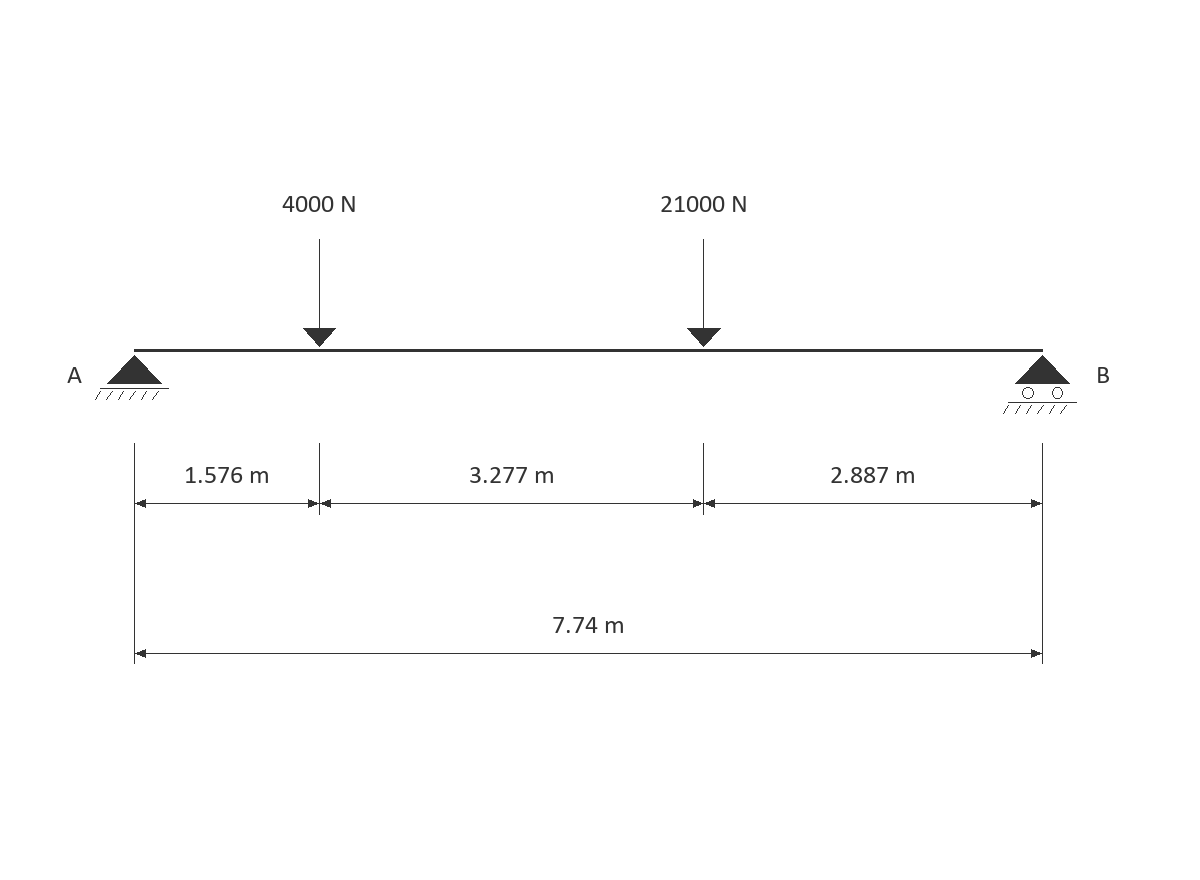pin_support: (95, 355, 169, 400)
point_load: (687, 239, 721, 347), (303, 239, 336, 347)
roller_support: (1003, 355, 1077, 414)
